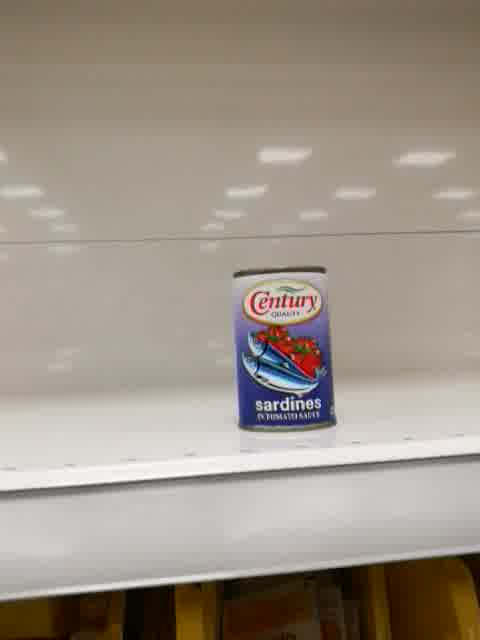sardine: (230, 266, 337, 432)
